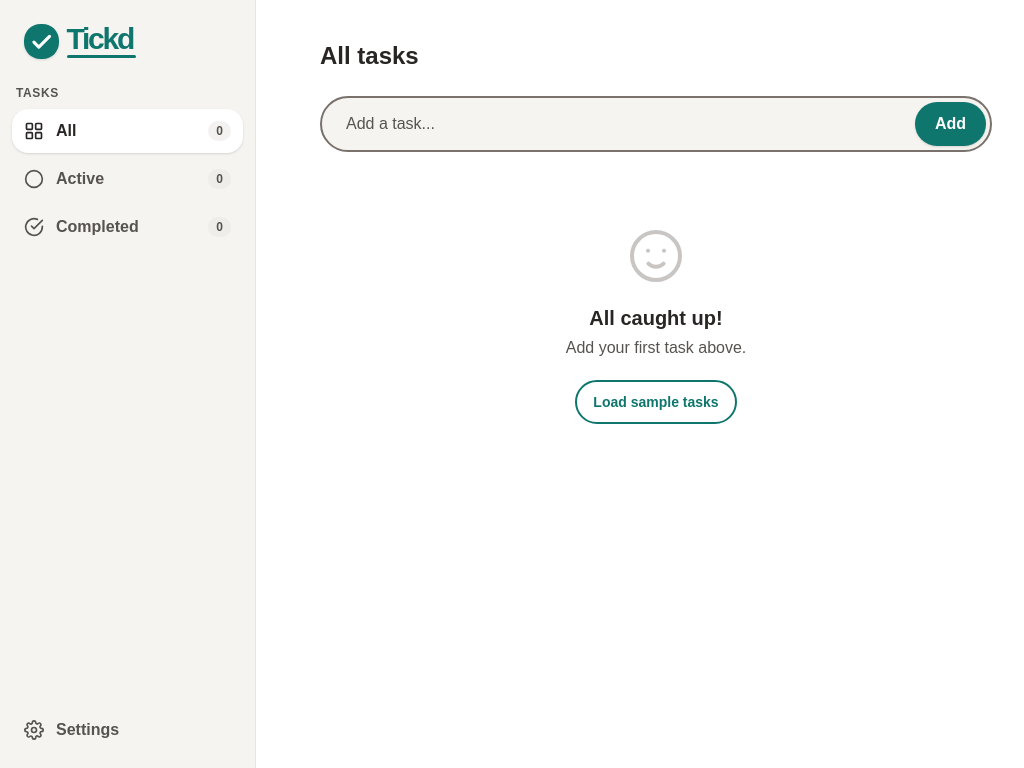
Test case: shows a quota alert when saving fails because storage is full
This screenshot has width=1024, height=768.
In the field labelled "Add a task": {"x": 656, "y": 124} [320,96,992,152], type "Still added"
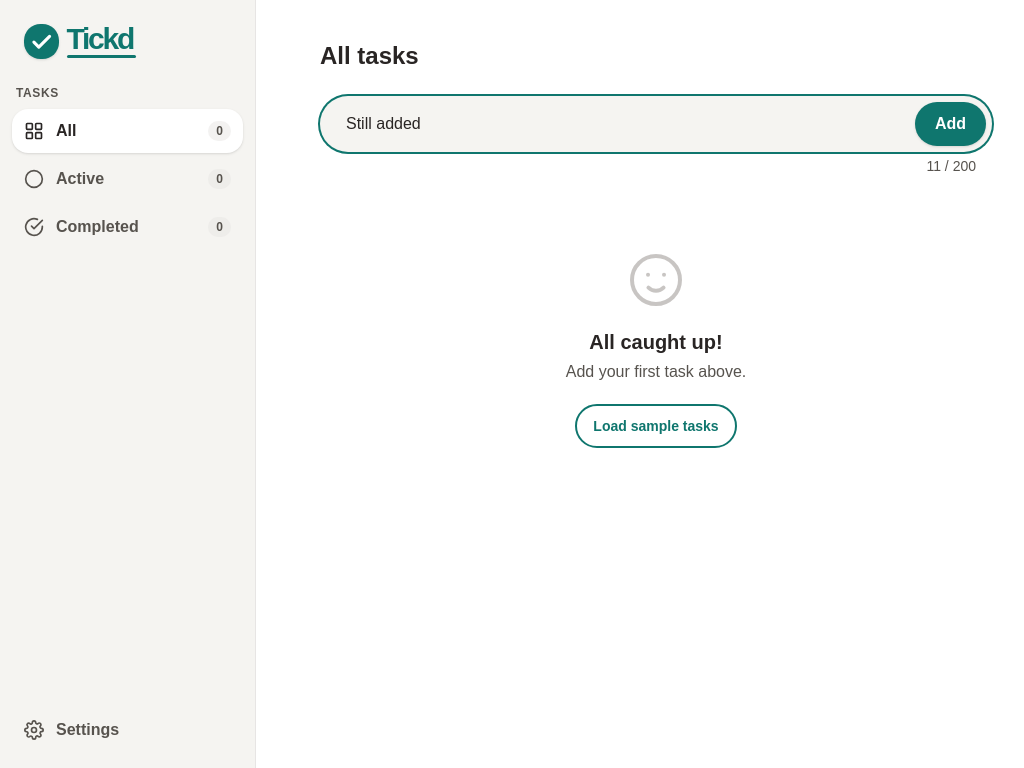
Click the button "Add": {"x": 950, "y": 124} [915,102,986,146]
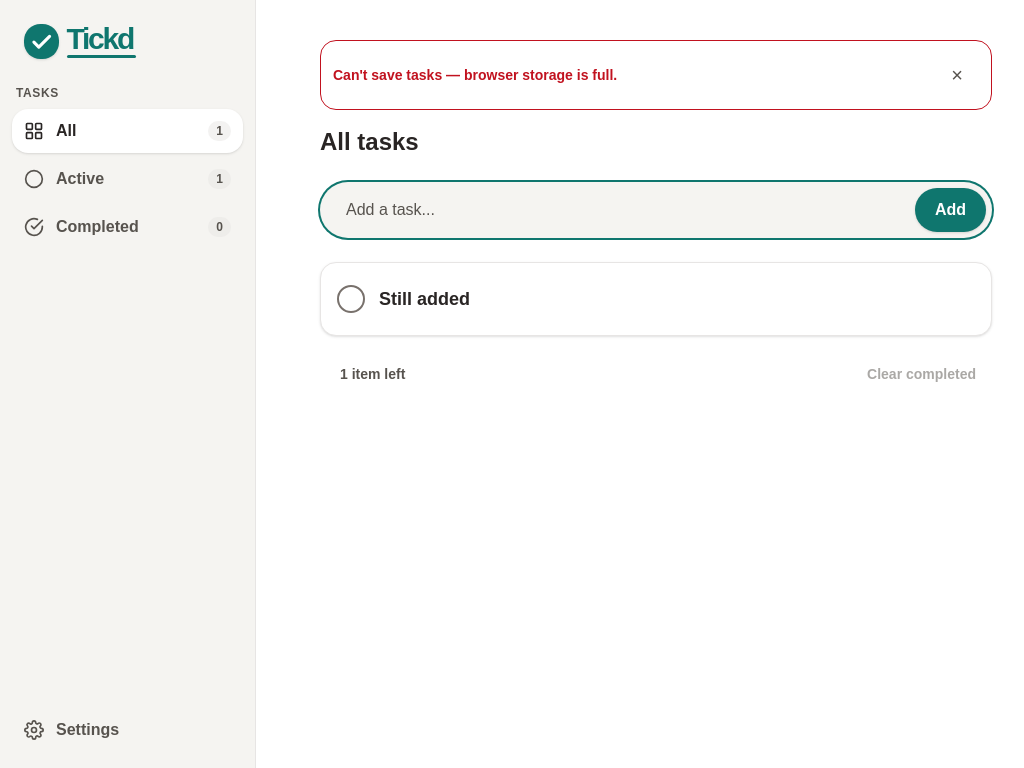
Now the button "Still added" is shown, box [379,277,929,321]
Now the message shows "Can't save tasks — browser storage is full.", box [333,67,617,83]
